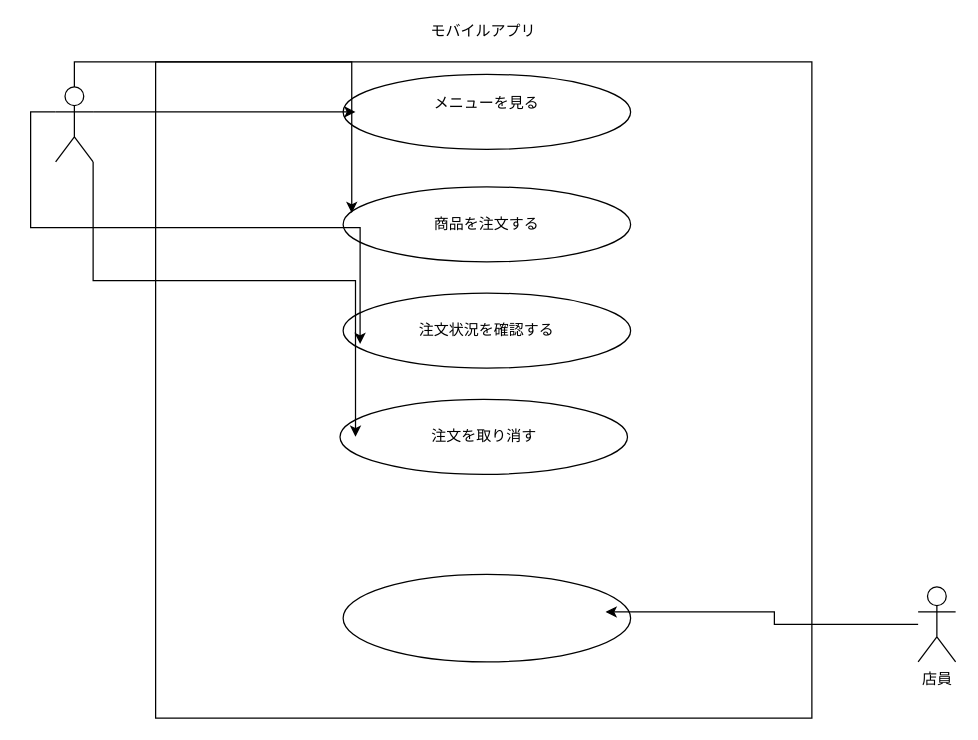
Image size: 978x740. Some labels were removed from this diagram. Each missing label, with the centre of its shape:
"お客様" belongs at [73,124].
"注文を受け渡す" belongs at [486,617].
